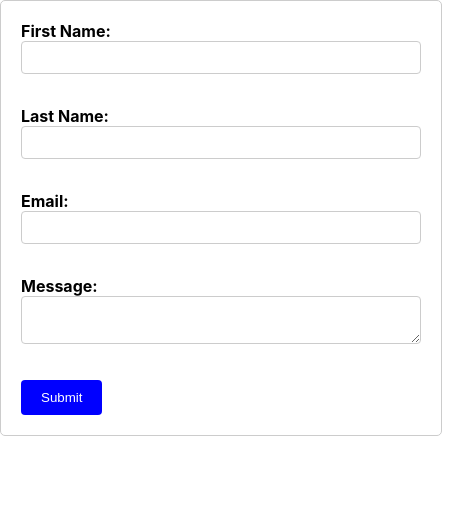
it: all fields should be validated after user click submit button
This screenshot has width=459, height=513.
Click the button "Submit" at (62,398), box [21,380,102,415]
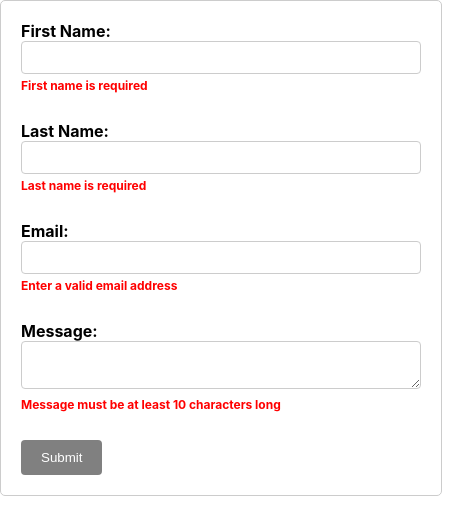
Check: the text "First name is required" is shown, box [21,78,148,93]
Check: the text "Last name is required" is shown, box [21,178,146,193]
Check: the text "Enter a valid email address" is shown, box [21,278,177,293]
